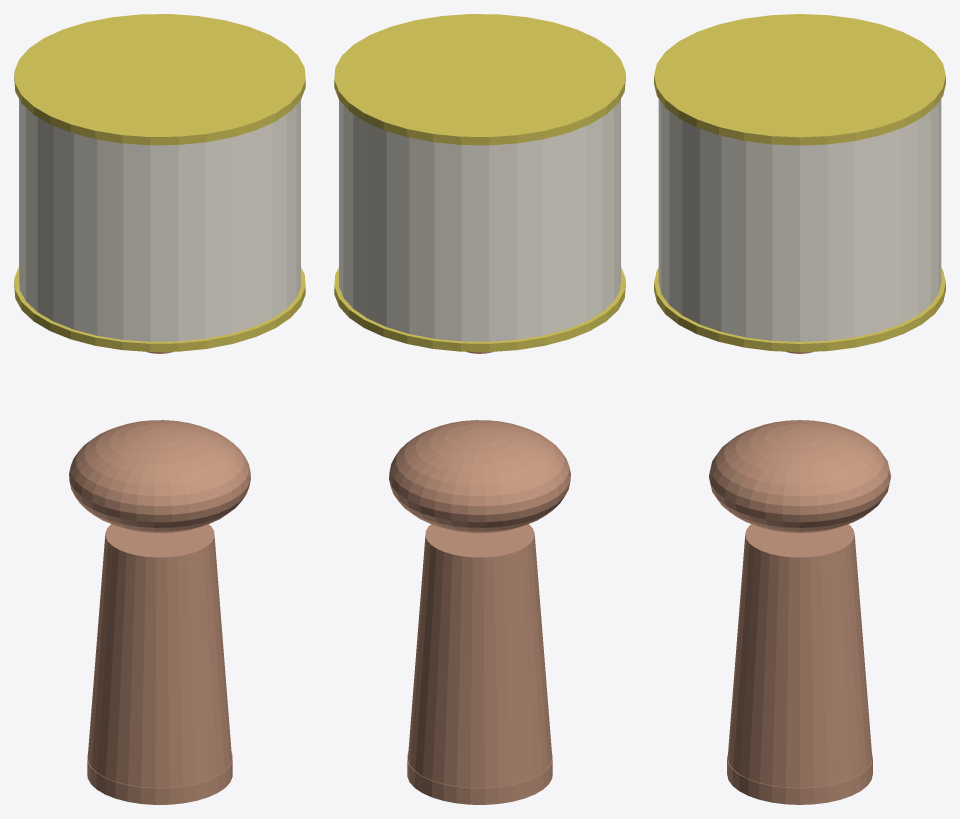
Rendered from lamp4.glb.
The picture shows the model from 3 angles, left to right: view 1: azimuth 30°, elevation 25°; view 2: azimuth 150°, elevation 25°; view 3: azimuth 270°, elevation 25°; orthographic projection.
Visible parts, largest first — view 1: L4_ShadeDrum, L4_VaseBottom, L4_RimTop, L4_VaseMid, L4_RimBot, L4_Foot; view 2: L4_ShadeDrum, L4_VaseBottom, L4_RimTop, L4_VaseMid, L4_RimBot, L4_Foot; view 3: L4_ShadeDrum, L4_VaseBottom, L4_RimTop, L4_VaseMid, L4_RimBot, L4_Foot.
Boxes of the visible parts, left/top/right/bottom form: L4_ShadeDrum: left=19, top=99, right=300, bottom=341; L4_VaseBottom: left=88, top=524, right=231, bottom=788; L4_RimTop: left=14, top=14, right=305, bottom=145; L4_VaseMid: left=69, top=420, right=250, bottom=532; L4_RimBot: left=14, top=267, right=305, bottom=351; L4_Foot: left=87, top=753, right=232, bottom=804; L4_ShadeDrum: left=339, top=99, right=620, bottom=341; L4_VaseBottom: left=408, top=524, right=551, bottom=788; L4_RimTop: left=334, top=14, right=625, bottom=145; L4_VaseMid: left=389, top=420, right=570, bottom=532; L4_RimBot: left=334, top=267, right=625, bottom=351; L4_Foot: left=407, top=753, right=552, bottom=804; L4_ShadeDrum: left=658, top=99, right=941, bottom=341; L4_VaseBottom: left=727, top=524, right=872, bottom=788; L4_RimTop: left=654, top=14, right=945, bottom=145; L4_VaseMid: left=709, top=420, right=890, bottom=532; L4_RimBot: left=654, top=268, right=945, bottom=352; L4_Foot: left=727, top=754, right=872, bottom=804.
Bounding box in the file's own units: 0.32 × 0.845 × 0.32.
